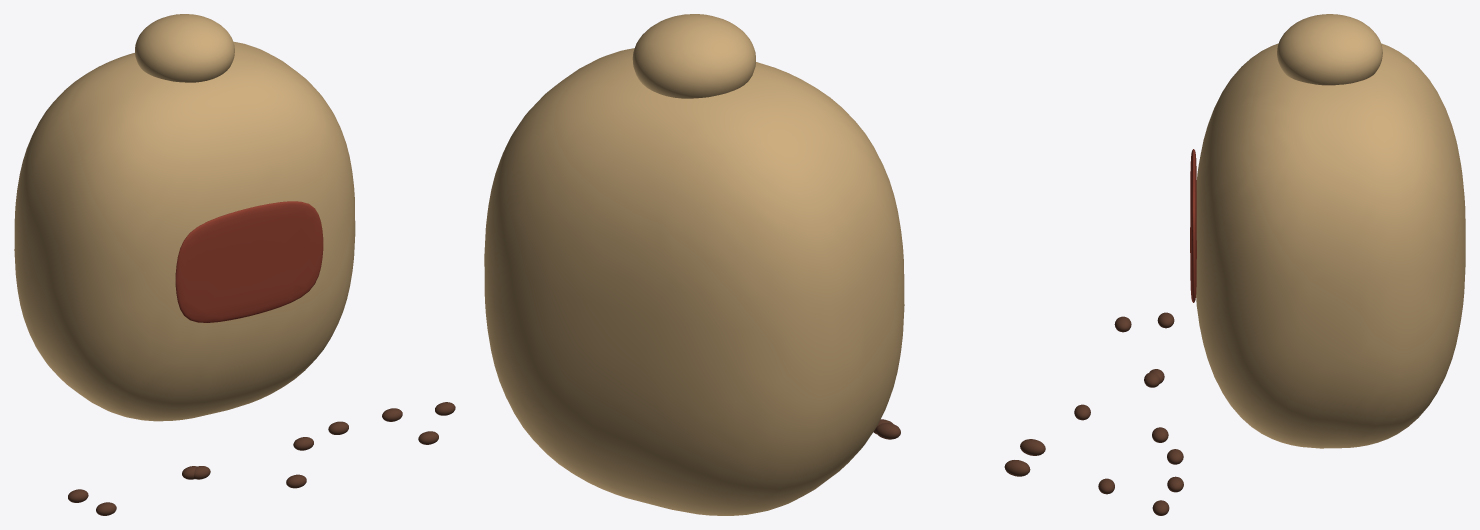
File: deco_bulto_cafe.glb
3 renders of one model, left to right at view 1: azimuth 30°, elevation 25°; view 2: azimuth 150°, elevation 25°; view 3: azimuth 270°, elevation 25°, orthographic. The views are drawn at different scales.
Parts seen in each view (by area): view 1: bulto.001, sello café.001, amarre.001; view 2: bulto.001, amarre.001; view 3: bulto.001, amarre.001, sello café.001.
Boxes of the visible parts, x1=… form: bulto.001: x1=14, y1=41, x2=355, y2=421; sello café.001: x1=175, y1=201, x2=323, y2=322; amarre.001: x1=135, y1=14, x2=234, y2=82; bulto.001: x1=484, y1=48, x2=904, y2=515; amarre.001: x1=632, y1=14, x2=755, y2=98; bulto.001: x1=1196, y1=43, x2=1465, y2=448; amarre.001: x1=1277, y1=14, x2=1382, y2=85; sello café.001: x1=1190, y1=149, x2=1196, y2=302.
Size of the model in its own units: 0.5147 by 0.4882 by 0.431.
